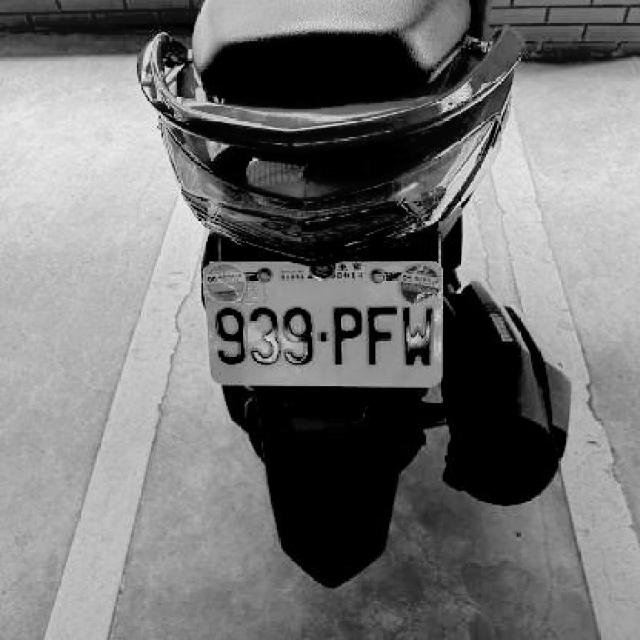-: (318, 328, 329, 338)
3: (249, 303, 280, 368)
9: (280, 300, 317, 363), (211, 305, 249, 366)
F: (363, 303, 400, 369)
P: (331, 302, 366, 366)
W: (397, 301, 431, 374)
